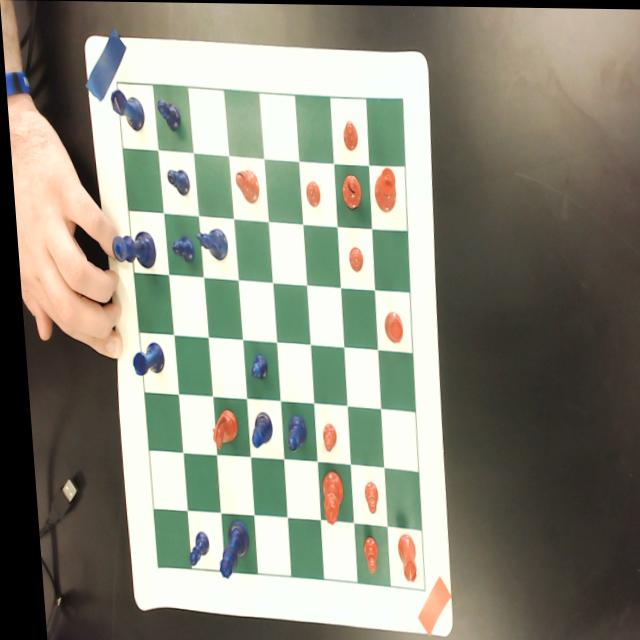B: (279, 413, 302, 452), (243, 411, 267, 448)
K: (107, 230, 154, 270)
N: (190, 226, 225, 261)
P: (155, 98, 181, 133), (178, 531, 202, 567), (167, 235, 192, 264), (164, 168, 188, 197), (243, 352, 263, 380)
Q: (208, 519, 244, 579)
R: (108, 90, 144, 135), (126, 343, 160, 378)
b: (232, 169, 258, 203), (338, 173, 360, 209)
k: (370, 167, 395, 212)
n: (204, 408, 233, 451)
p: (354, 535, 371, 573), (356, 481, 373, 515), (339, 119, 357, 151), (315, 422, 332, 453), (344, 245, 361, 273), (302, 180, 319, 208)
q: (313, 470, 338, 525)
r: (388, 532, 410, 582), (379, 311, 399, 343)
